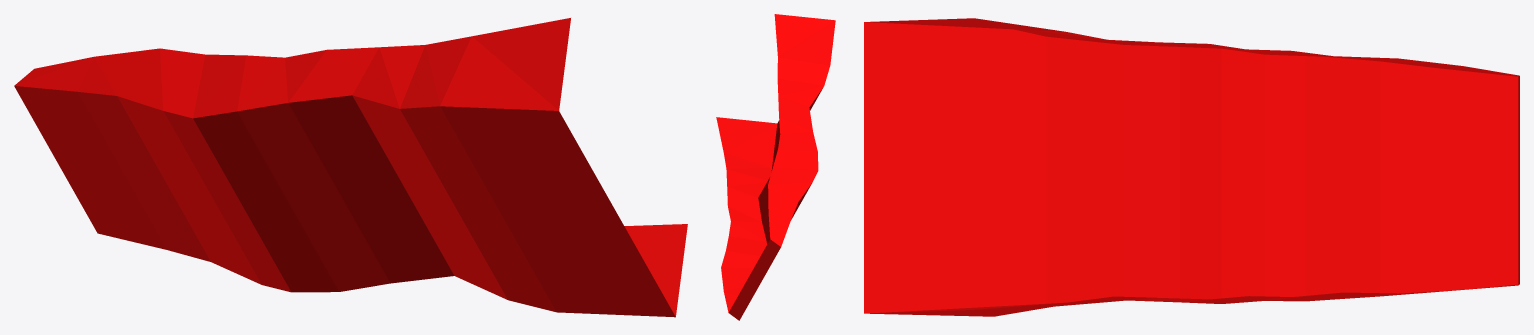
The model's file is 2_handle__03.obj.
3 renders of one model, left to right at view 1: azimuth 30°, elevation 25°; view 2: azimuth 150°, elevation 25°; view 3: azimuth 270°, elevation 25°, orthographic. The views are drawn at different scales.
Visible parts, largest first — view 1: 2_handle__03; view 2: 2_handle__03; view 3: 2_handle__03.
Part boxes in pixels (<box>): 2_handle__03: <box>14,18,687,317</box>; 2_handle__03: <box>716,14,835,320</box>; 2_handle__03: <box>864,18,1519,316</box>.
Size of the model in its own units: 0.029 by 0.0252 by 0.041.
